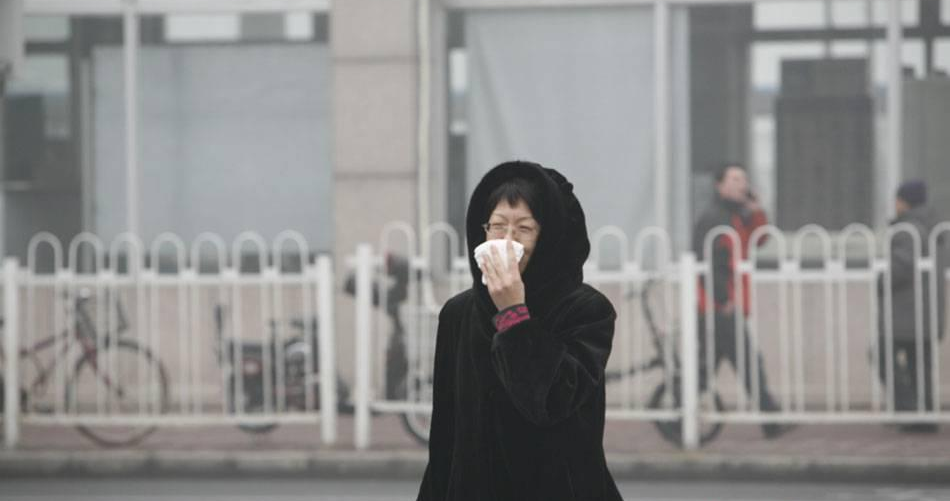bicycle: (494, 272, 727, 447), (1, 282, 170, 447)
motorbike: (207, 253, 481, 438)
person: (411, 160, 630, 501), (658, 161, 795, 439), (863, 178, 947, 432)
